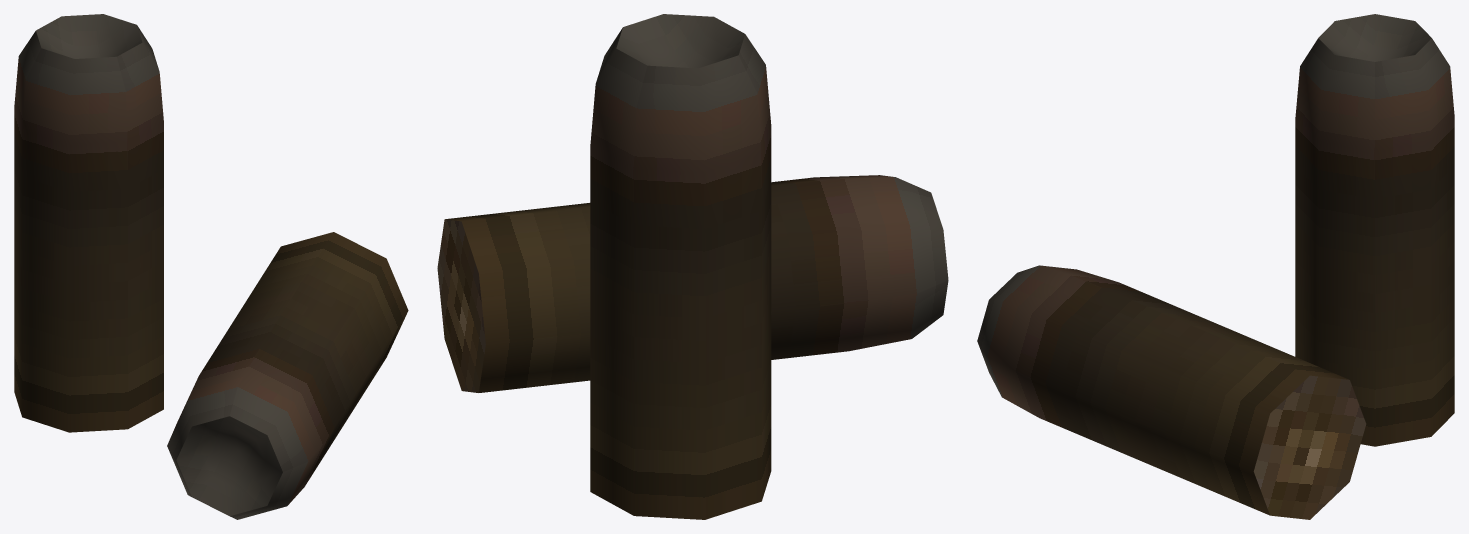
The model's file is ammo_pistol_loose_2pcs_mp_2.glb.
3 views of the same model, side by side, from view 1: azimuth 30°, elevation 25°; view 2: azimuth 150°, elevation 25°; view 3: azimuth 270°, elevation 25° (orthographic). The views are drawn at different scales.
Parts seen in each view (by area): view 1: ammo_pistol_loose_2pcs_mp_2; view 2: ammo_pistol_loose_2pcs_mp_2; view 3: ammo_pistol_loose_2pcs_mp_2.
Boxes of the visible parts, x1=… form: ammo_pistol_loose_2pcs_mp_2: x1=14, y1=14, x2=408, y2=519; ammo_pistol_loose_2pcs_mp_2: x1=437, y1=14, x2=948, y2=519; ammo_pistol_loose_2pcs_mp_2: x1=977, y1=14, x2=1454, y2=519.
Bounding box in the file's own units: 0.0308 × 0.0327 × 0.0378.
Materials: 1 (1 with a texture image).
